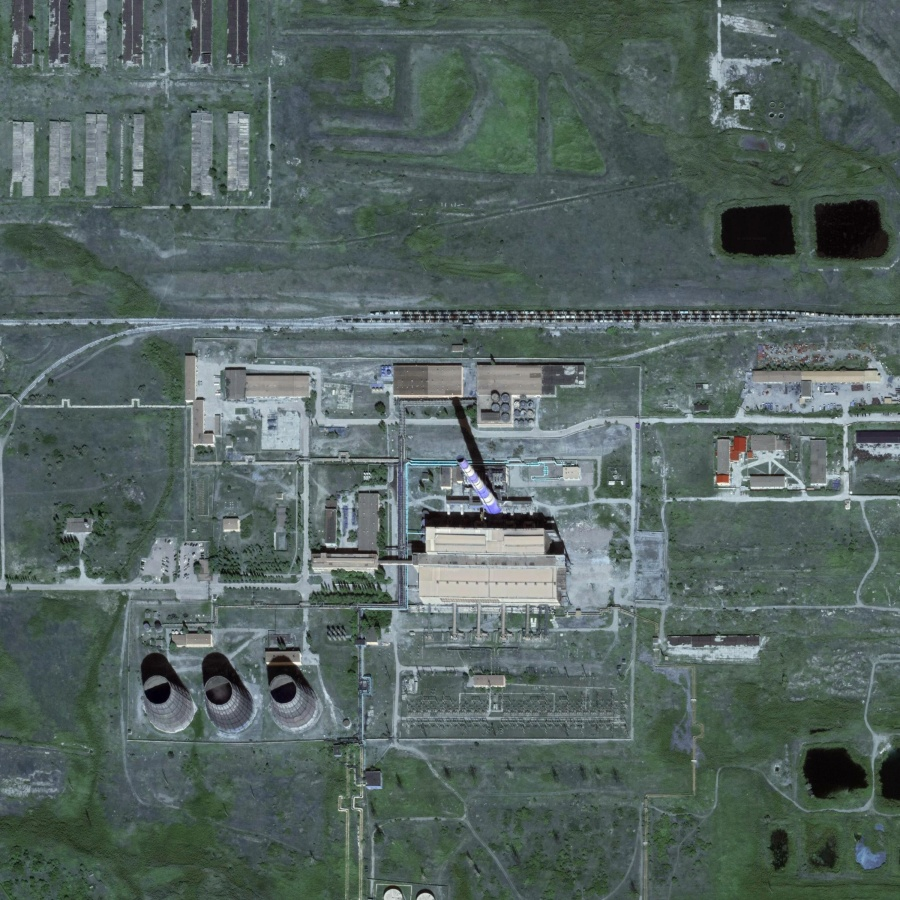PowerPlant: (114, 335, 596, 764)
